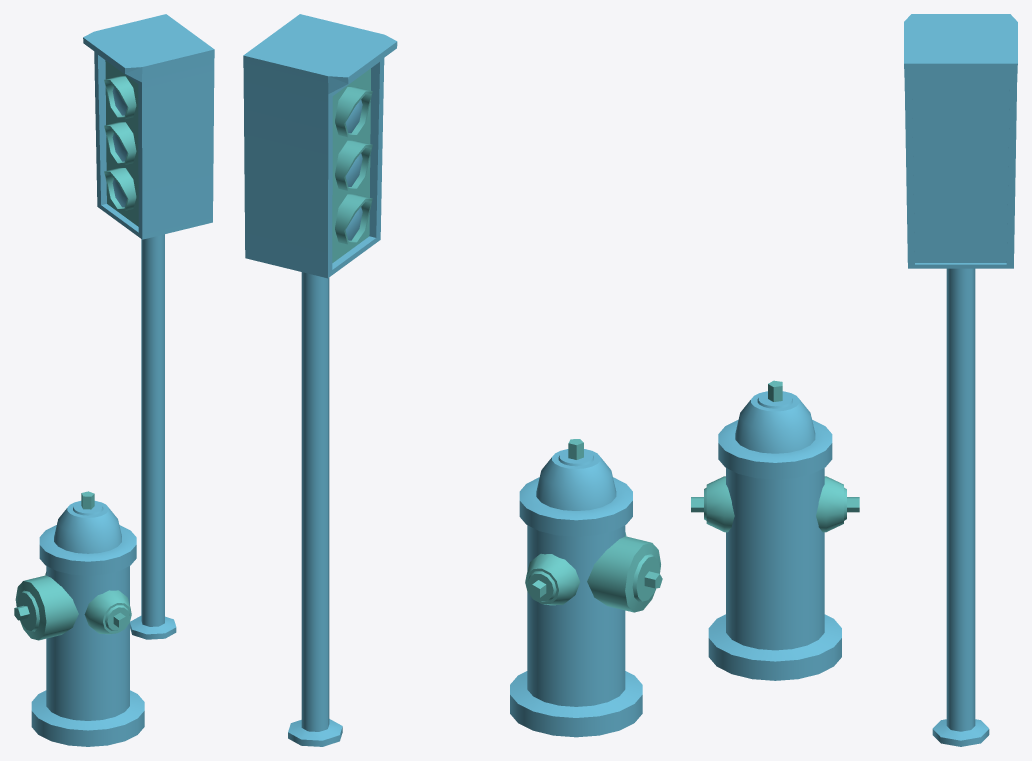
Rendered from BG_sptp_fire_hydrant_01.fbx.
The picture shows the model from 3 angles, left to right: view 1: azimuth 30°, elevation 25°; view 2: azimuth 150°, elevation 25°; view 3: azimuth 270°, elevation 25°; orthographic projection. The views are drawn at different scales.
Visible parts, largest first — view 1: sptp_fire_hydrant_01.001; view 2: sptp_fire_hydrant_01.001; view 3: sptp_fire_hydrant_01.001.
Boxes of the visible parts, x1,y1,x2,y2 form: sptp_fire_hydrant_01.001: (14,14,214,746); sptp_fire_hydrant_01.001: (243,14,662,746); sptp_fire_hydrant_01.001: (691,14,1017,746).
Size of the model in its own units: 2.57 by 5.74 by 2.46.
